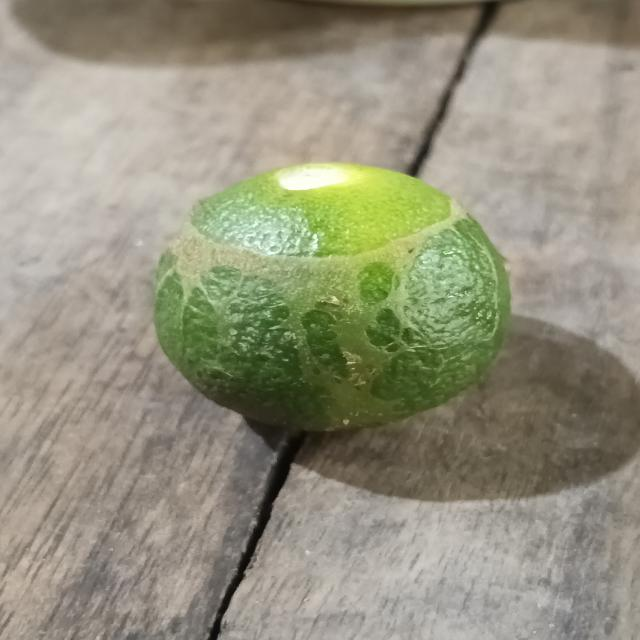thrips: (156, 167, 518, 439)
